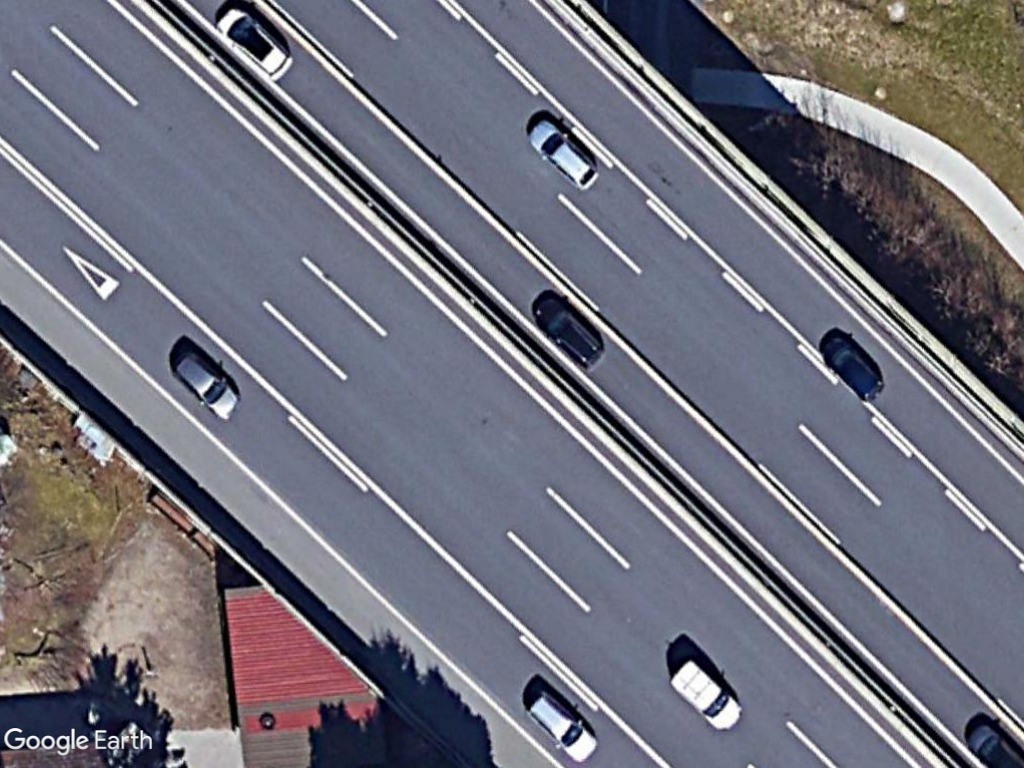car: (214, 7, 297, 82), (523, 118, 602, 192), (524, 690, 599, 766), (172, 351, 243, 422), (820, 338, 886, 403)
van: (666, 657, 746, 732)
